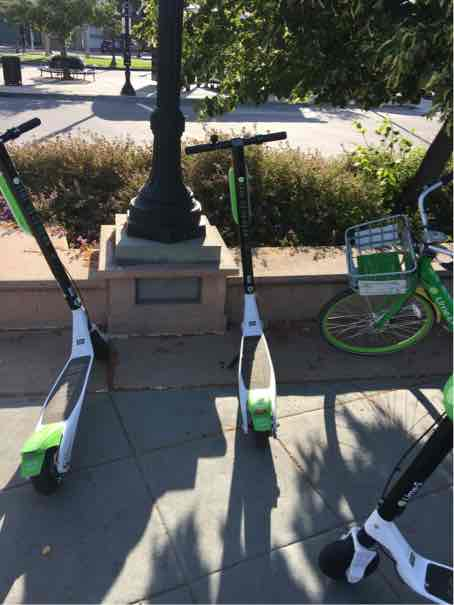scooter: (174, 132, 295, 465)
